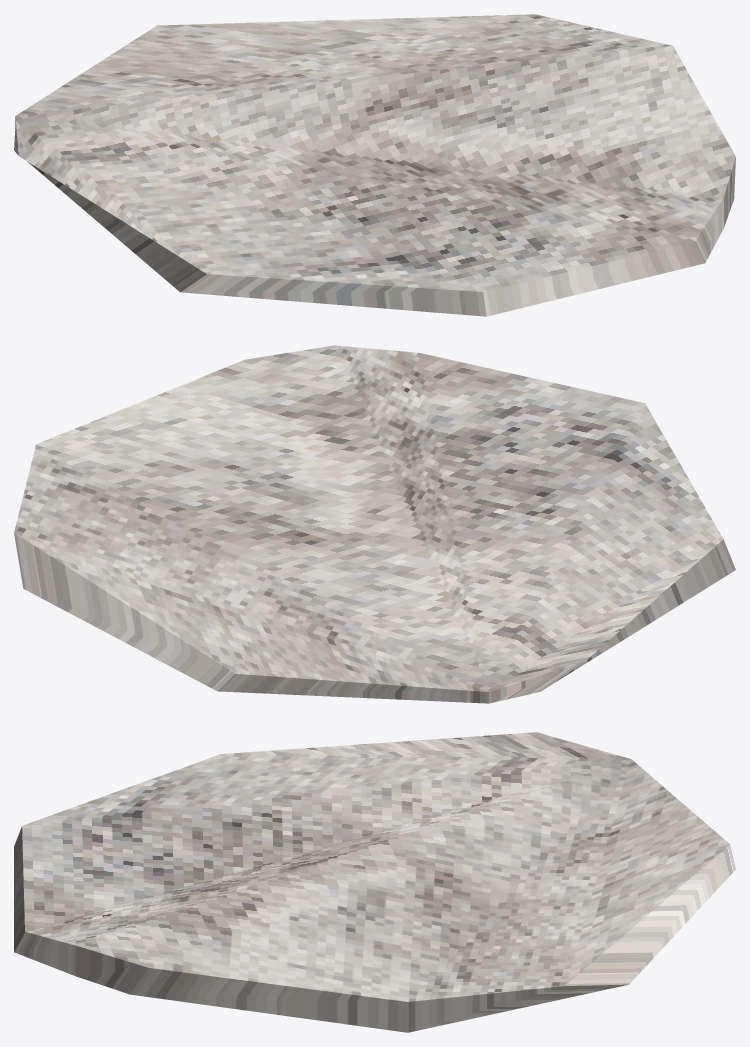
File: pedra3.fbx
3 renders of one model, top to bottom at view 1: azimuth 30°, elevation 25°; view 2: azimuth 150°, elevation 25°; view 3: azimuth 270°, elevation 25°, orthographic. The views are drawn at different scales.
Parts seen in each view (by area): view 1: Plane; view 2: Plane; view 3: Plane.
Part boxes in pixels (x1,y1,x2,y2): Plane: (14, 14, 735, 316); Plane: (14, 345, 735, 703); Plane: (14, 732, 735, 1032).
Size of the model in its own units: 12.94 by 0.9046 by 13.89.
Materials: 1 (1 with a texture image).
